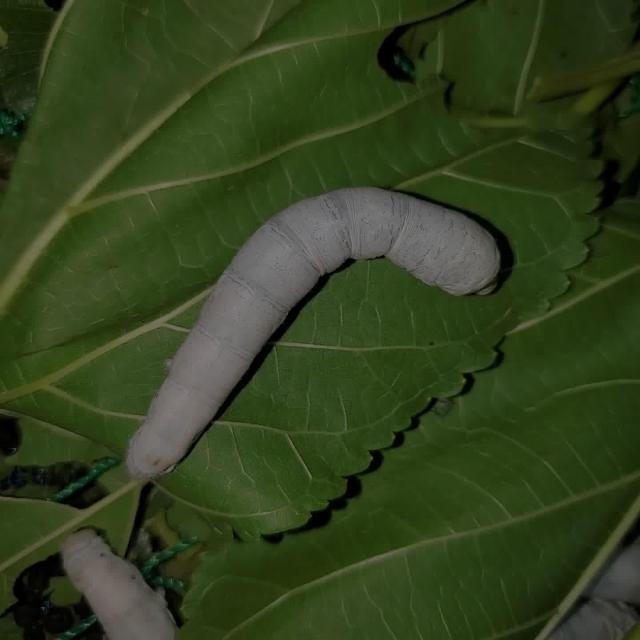Healthy: (89, 119, 546, 507)
